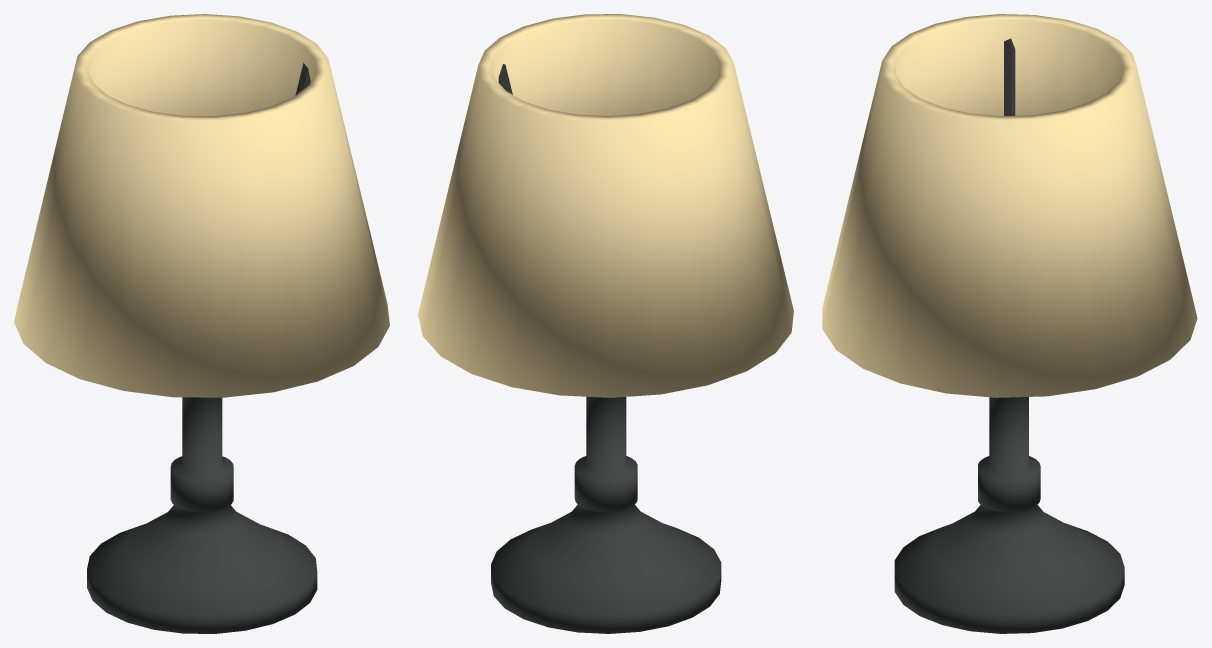
File: Lamp_Bedroom_V1.fbx
3 renders of one model, left to right at view 1: azimuth 30°, elevation 25°; view 2: azimuth 150°, elevation 25°; view 3: azimuth 270°, elevation 25°, orthographic.
Parts seen in each view (by area): view 1: Cylinder.001, Cylinder; view 2: Cylinder.001, Cylinder; view 3: Cylinder.001, Cylinder, Cylinder.003.
Part boxes in pixels (x1,y1,x2,y2): Cylinder.001: (14, 14, 389, 397); Cylinder: (87, 397, 317, 633); Cylinder.001: (418, 14, 793, 397); Cylinder: (491, 396, 721, 633); Cylinder.001: (822, 14, 1197, 397); Cylinder: (894, 397, 1124, 633); Cylinder.003: (1004, 38, 1015, 115).
Bounding box in the file's own units: 215 × 326 × 214.
